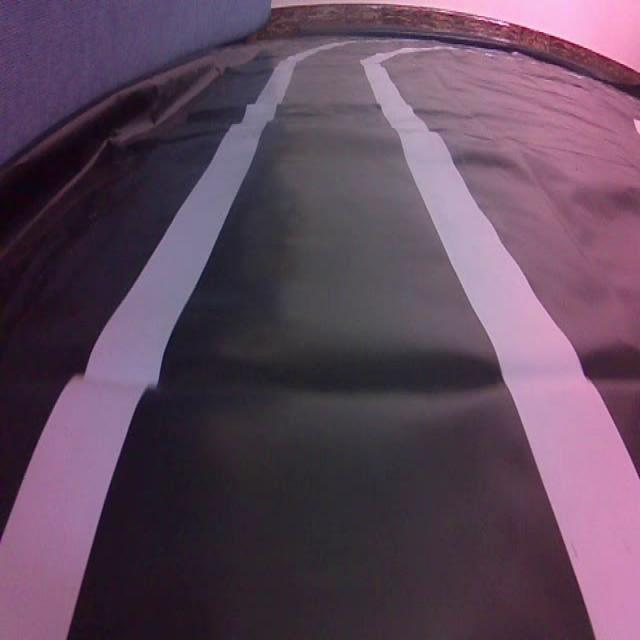LineaCarril: (0, 43, 338, 638), (363, 53, 640, 638)
